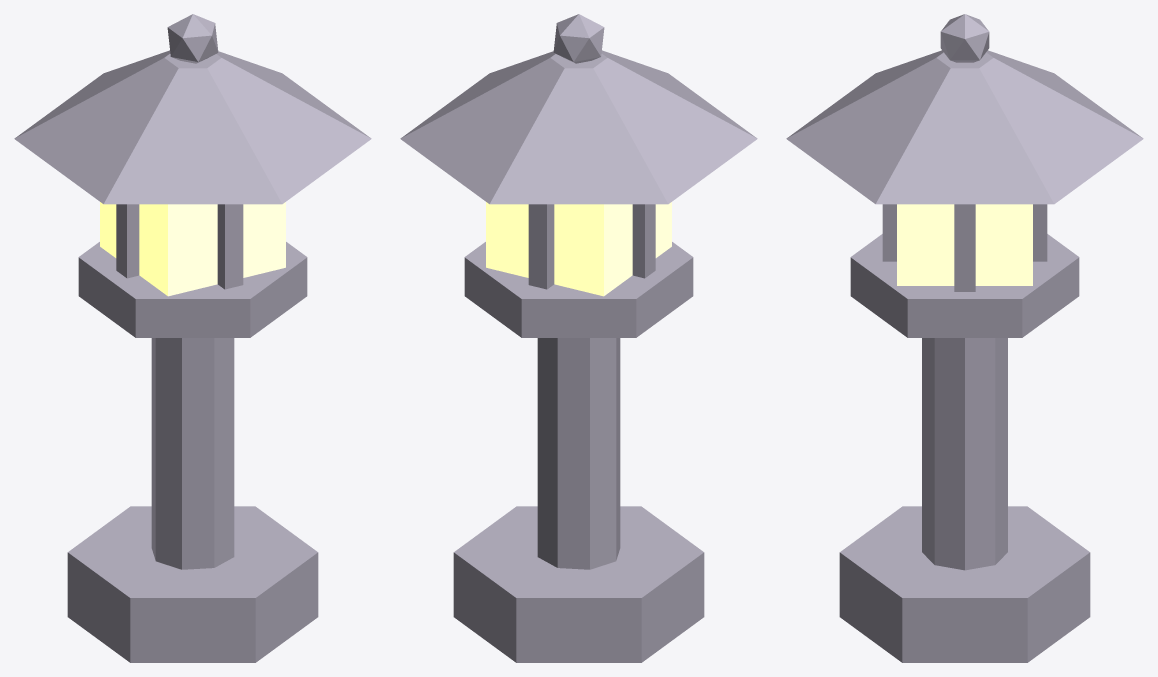
Rendered from lantern_stone.glb.
3 views of the same model, side by side, from view 1: azimuth 30°, elevation 25°; view 2: azimuth 150°, elevation 25°; view 3: azimuth 270°, elevation 25° (orthographic).
Parts seen in each view (by area): view 1: lantern_stone; view 2: lantern_stone; view 3: lantern_stone.
Boxes of the visible parts, x1,y1,x2,y2 form: lantern_stone: [14, 14, 371, 662]; lantern_stone: [400, 14, 757, 662]; lantern_stone: [786, 14, 1143, 662].
Size of the model in its own units: 0.866 by 1.86 by 1.
